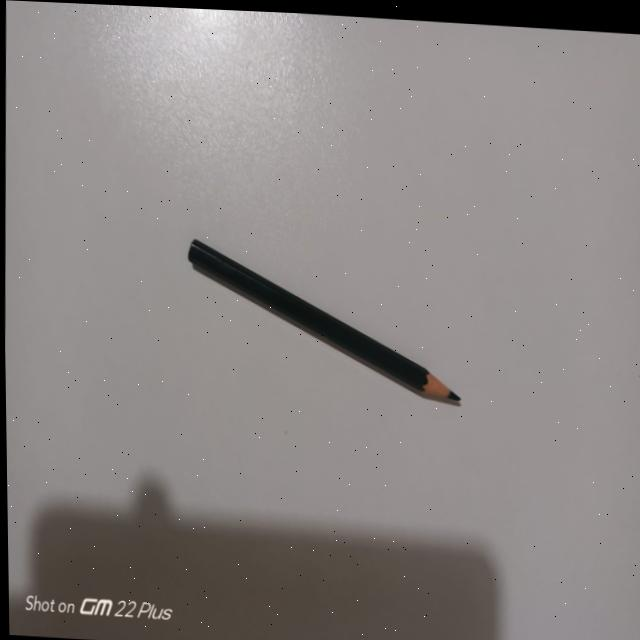pencil: (177, 231, 468, 416)
